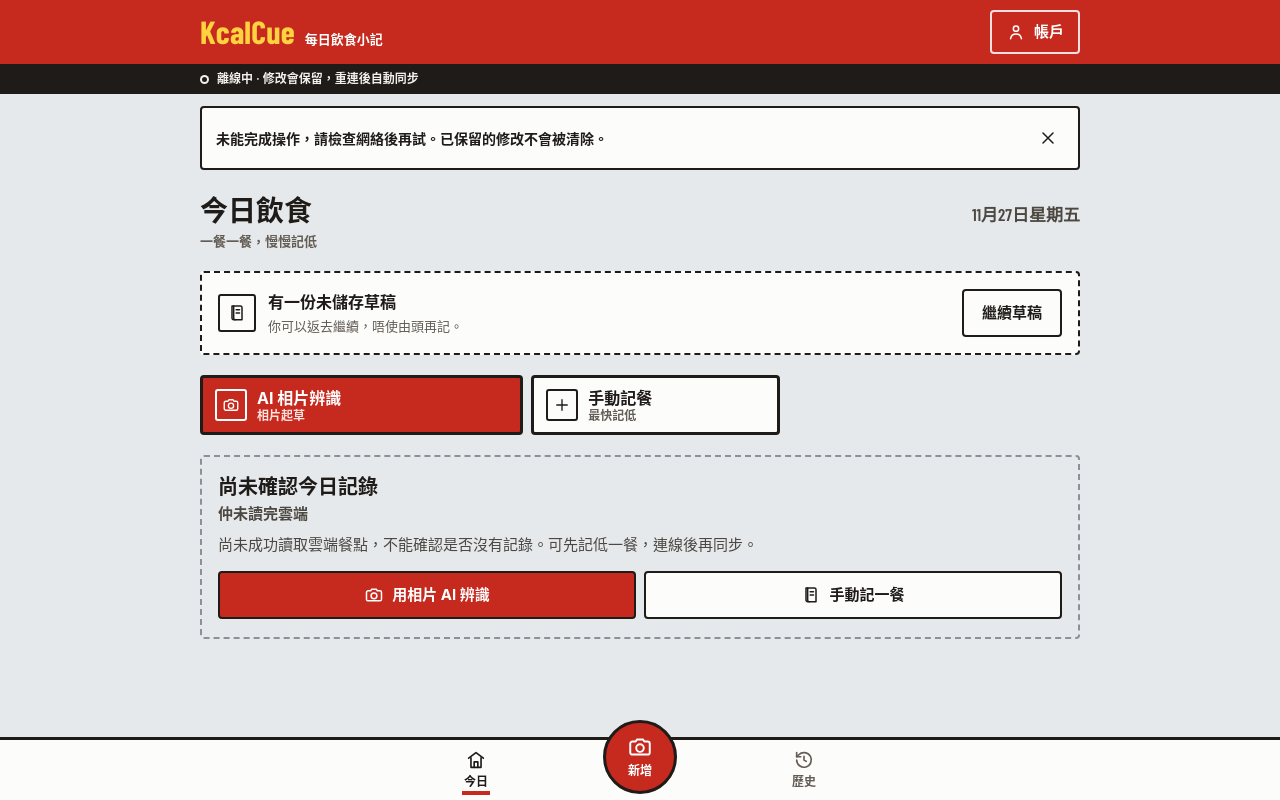
Test: clears a prior sync error when a subsequent online save succeeds
The width and height of the screenshot is (1280, 800).
Check: the text "未能完成操作，請檢查網絡後再試。已保留的修改不會被清除。" is shown, box left=216, top=130, right=608, bottom=146
Check: the text "離線中 · 修改會保留，重連後自動同步" is shown, box left=217, top=71, right=419, bottom=87
Click the button "繼續草稿".
click(1012, 313)  # box left=962, top=289, right=1062, bottom=337
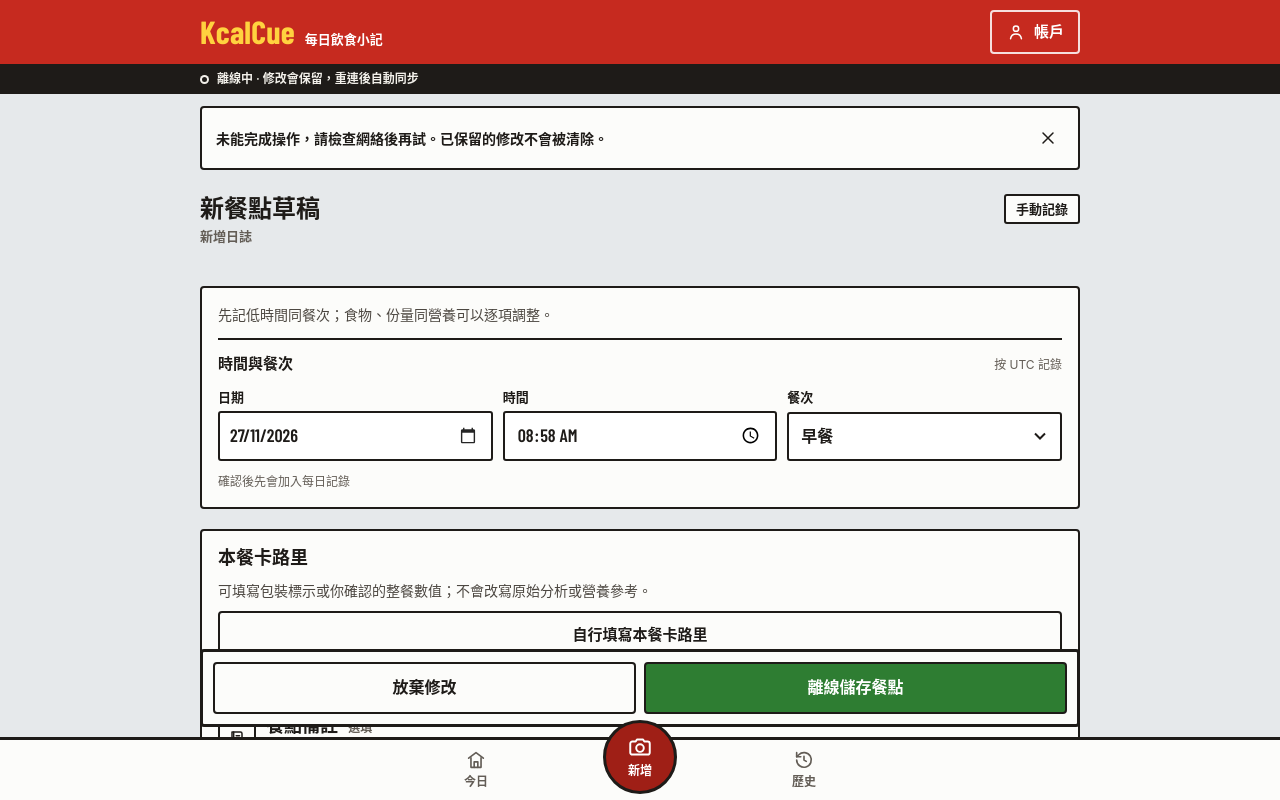
Click the button "離線儲存餐點".
click(856, 688)  # box left=644, top=662, right=1067, bottom=714
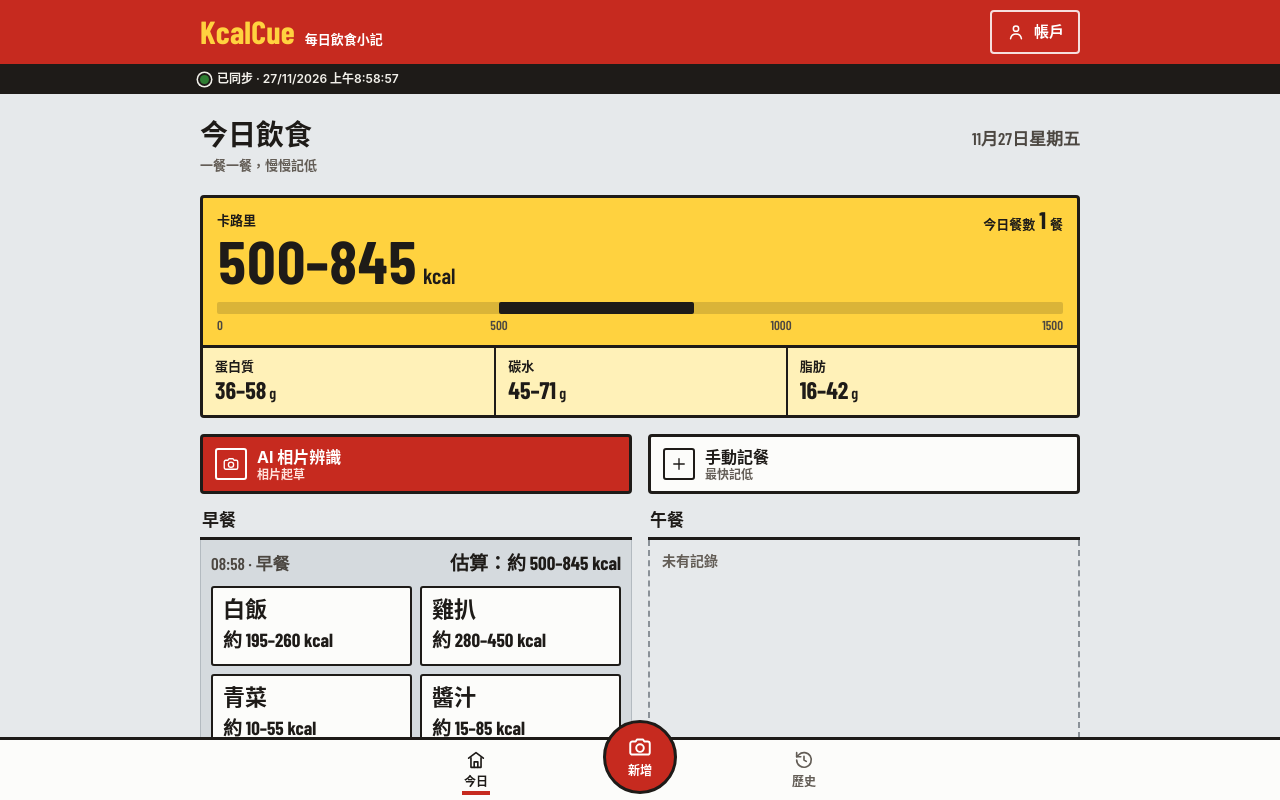
Check: the message with class "journal-notice" is gone
Check: the text "已同步 · 27/11/2026 上午8:58:57" is shown, box left=217, top=71, right=399, bottom=87
